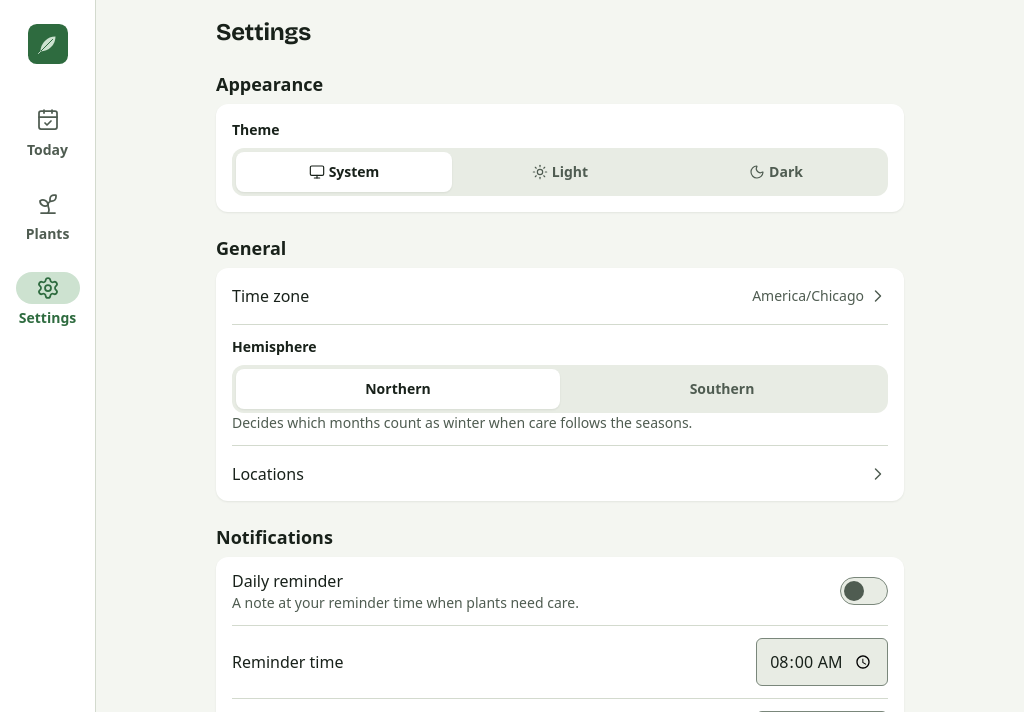
Scenario: Notifications settings › undoes the device subscription when the server refuses it
Click the switch labelled "Daily reminder".
click(864, 591)  # box [840, 577, 888, 605]
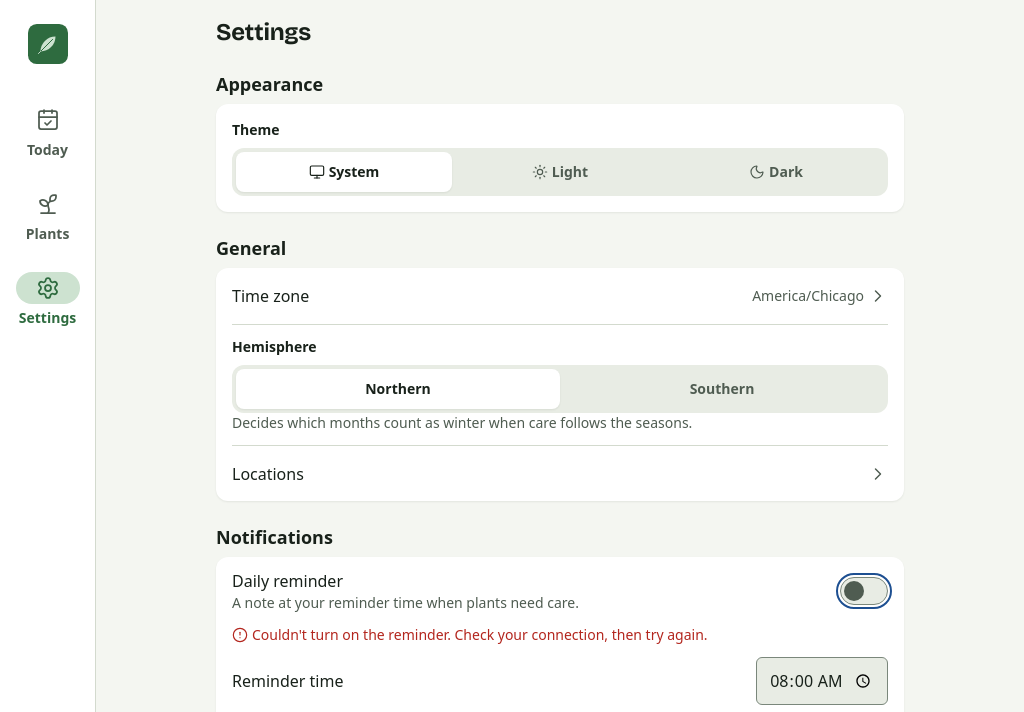
Expected: the text "Couldn't turn on the reminder. Check your connection, then try again." is shown, [232, 625, 708, 644]
